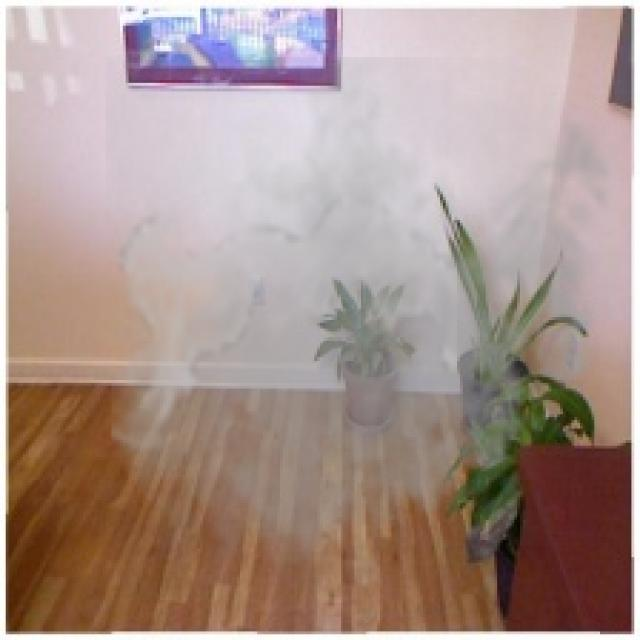smoke: (106, 57, 628, 589)
